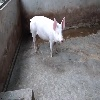heo: (27, 13, 67, 58)
